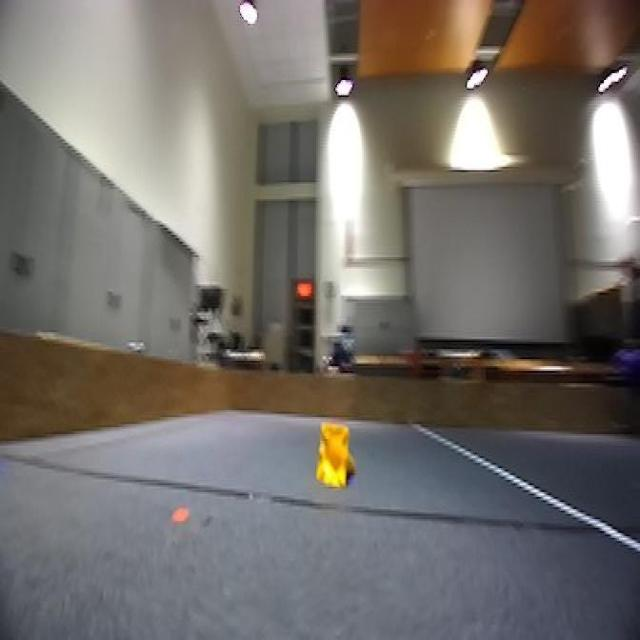frc_cone: (310, 419, 360, 495)
